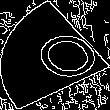O_SE: (11, 22, 99, 88)
